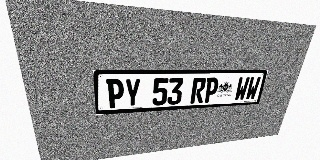3: (167, 78, 184, 105)
5: (152, 78, 169, 106)
P: (106, 79, 124, 109), (203, 77, 220, 103)
R: (190, 78, 207, 104)
W: (234, 77, 250, 101), (245, 77, 261, 100)
Y: (124, 78, 141, 107)
